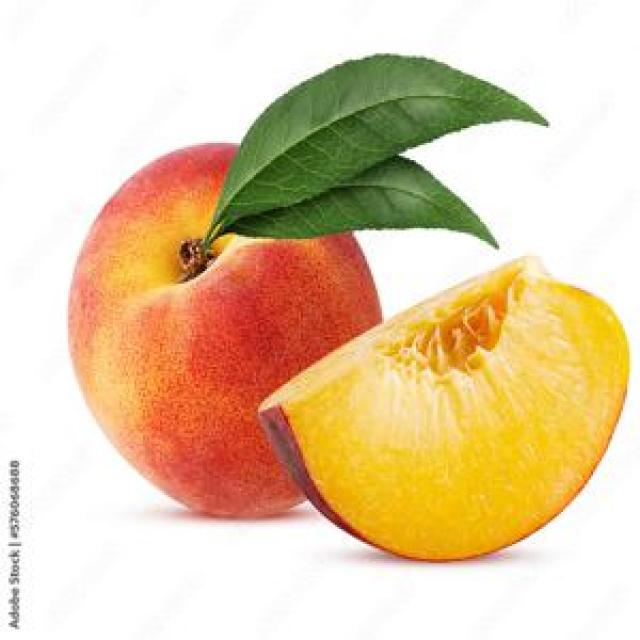peach: (70, 55, 629, 559)
